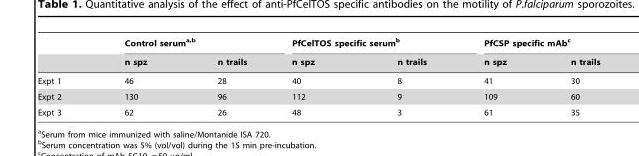table: (37, 36, 599, 116)
table column: (355, 36, 454, 116), (92, 36, 181, 116), (181, 36, 268, 116), (268, 36, 355, 116), (454, 36, 537, 116), (537, 36, 599, 116), (37, 36, 92, 116)
table column header: (37, 36, 599, 71)
table row: (37, 52, 599, 71), (37, 71, 599, 88), (37, 36, 599, 52), (37, 88, 599, 104), (37, 104, 599, 116)
table spanning cell: (268, 36, 454, 52), (92, 36, 268, 52), (454, 36, 599, 52)
